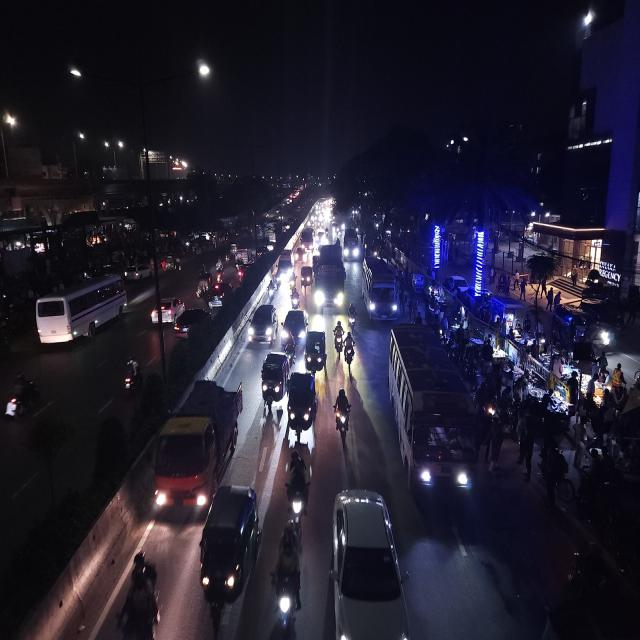bus: (394, 331, 482, 519), (36, 271, 131, 349), (361, 253, 399, 324), (316, 241, 346, 311)
car: (326, 484, 412, 640), (247, 304, 279, 347), (149, 292, 184, 325), (282, 310, 309, 345), (208, 280, 235, 311)
cng: (289, 369, 319, 445), (260, 351, 288, 412), (306, 325, 328, 378), (298, 263, 315, 289)
motorcycle: (110, 553, 164, 640), (268, 535, 303, 640), (282, 447, 314, 528), (332, 386, 354, 444), (121, 349, 142, 404), (344, 331, 356, 374), (333, 319, 345, 354), (347, 300, 358, 334), (290, 288, 302, 312), (266, 279, 276, 304)
pickup_van: (154, 373, 244, 523), (201, 479, 261, 621)
